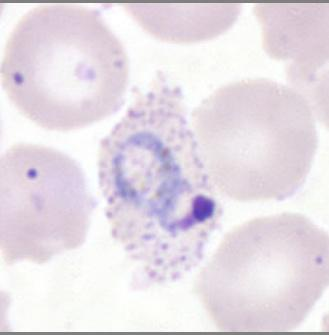Infected: (95, 73, 223, 288)
Uninfected: (199, 209, 329, 335), (3, 5, 131, 128), (189, 81, 318, 199), (0, 141, 93, 264)
